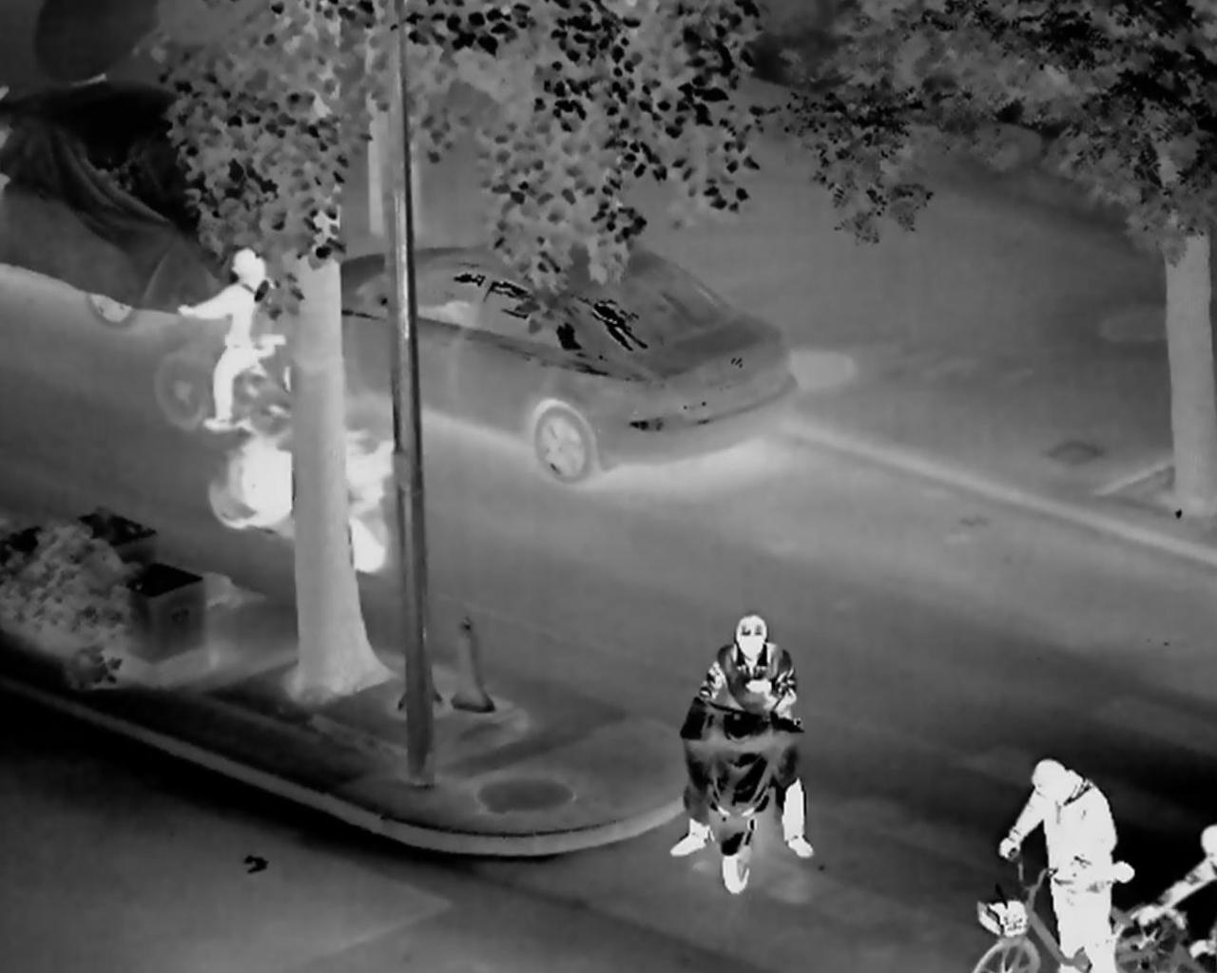person: (668, 605, 820, 886), (987, 741, 1132, 973), (241, 342, 386, 571), (165, 242, 291, 448)
